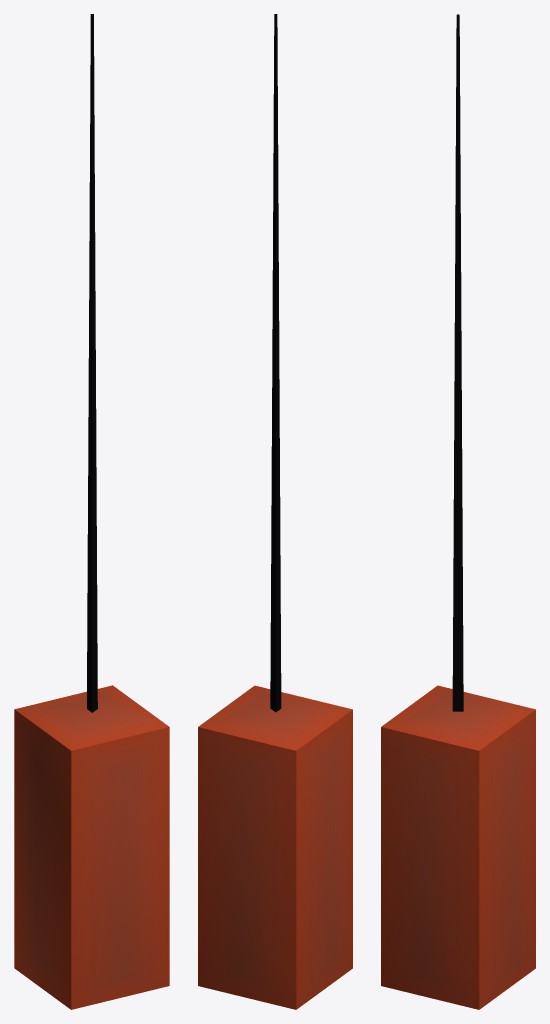
The model's file is LampQuad_Red.fbx.
The picture shows the model from 3 angles, left to right: view 1: azimuth 30°, elevation 25°; view 2: azimuth 150°, elevation 25°; view 3: azimuth 330°, elevation 25°; orthographic projection.
Parts seen in each view (by area): view 1: LampQuad_Red; view 2: LampQuad_Red; view 3: LampQuad_Red.
Boxes of the visible parts, x1,y1,x2,y2 form: LampQuad_Red: [14, 14, 169, 1009]; LampQuad_Red: [198, 14, 352, 1009]; LampQuad_Red: [381, 14, 535, 1009].
Bounding box in the file's own units: 18.51 × 151 × 18.51.
